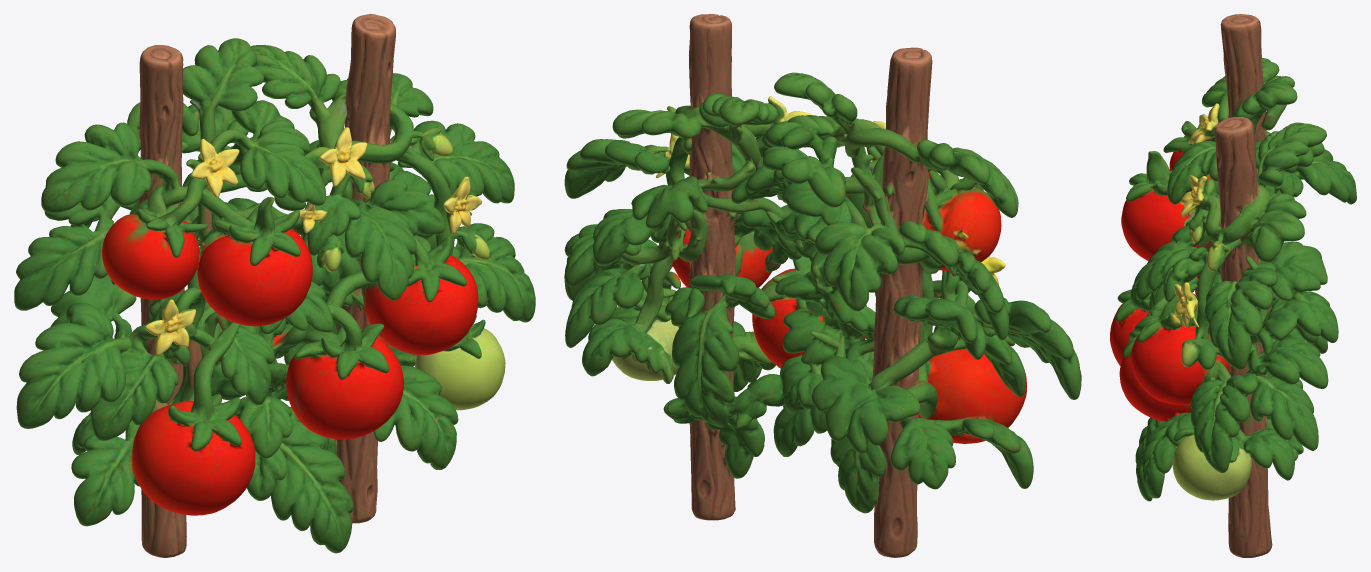
The model's file is tomato-mature.glb.
3 views of the same model, side by side, from view 1: azimuth 30°, elevation 25°; view 2: azimuth 150°, elevation 25°; view 3: azimuth 270°, elevation 25° (orthographic). The views are drawn at different scales.
Size of the model in its own units: 1.9 by 1.8 by 0.8966.
1 material, 1 textured.
